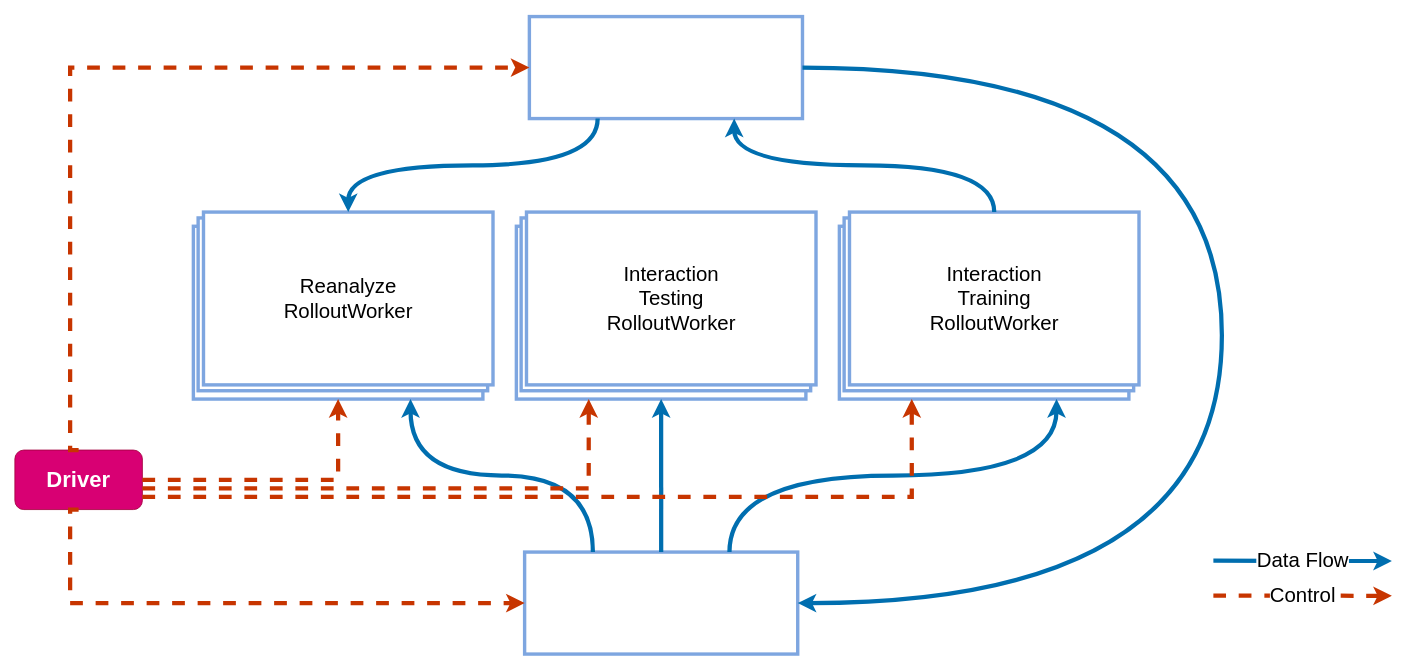
Some shapes in this 1404 by 670 pixel diagram are drawn without their labels. The box of each missing label's shape, as (x1, y1, x2, y2) in pixels:
Parameter Optimizer: (522, 550, 799, 655)
Replay Buffer: (527, 14, 804, 120)
